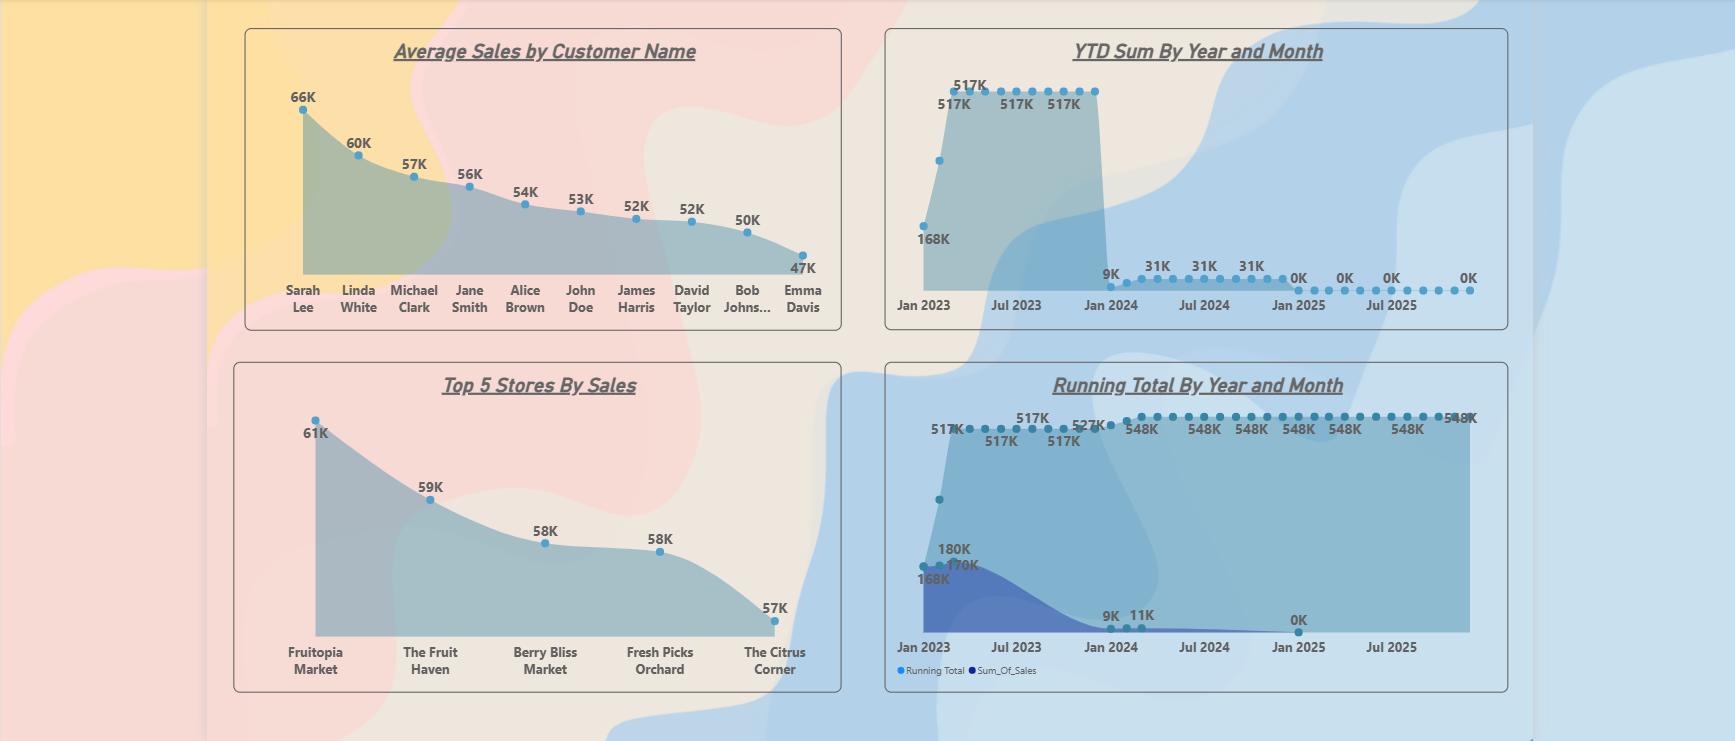

What the dashboard file says about the page in this screenshot:
{"tool":"powerbi","page":{"name":"Sales Analysis","canvas":[1920,1080],"ordinal":2},"visuals":[{"type":"lineChart","title":"Running Total By Year and Month","fields":{"Category":["Sales.Date (MM/DD/YYYY).Variation.Date Hierarchy.Year","Sales.Date (MM/DD/YYYY).Variation.Date Hierarchy.Month"],"Y":["Customer Dim.Running Total","Customer Dim.Sum_Of_Sales"]},"box":[980.8,526.6,903,479.6],"z":0},{"type":"lineChart","title":"YTD Sum By Year and Month","fields":{"Category":["Sales.Date (MM/DD/YYYY).Variation.Date Hierarchy.Year","Sales.Date (MM/DD/YYYY).Variation.Date Hierarchy.Month"],"Y":["Table.TotalYTD"]},"box":[980.8,43.4,903,437.9],"z":1000},{"type":"lineChart","fields":{"Category":["Customer Dim.Customer Name"],"Y":["Table.Average Sales"]},"box":[54.3,43.4,865,438],"z":2000},{"type":"lineChart","title":"Top 5 Stores By Sales","fields":{"Category":["Store Dim.Store Name"],"Y":["Customer Dim.Sum_Of_Sales"]},"box":[38.5,526,880.9,478.9],"z":3000}]}

Visuals, with their boxes on the page's 1920x1080 design canvas (x1, y1, x2, y2). These are canvas units, not pixel positions in the 1735x741 screenshot, which may show the page scaled, cropped or inside an application window:
"Running Total By Year and Month" lineChart: BBox(981, 527, 1884, 1006)
"YTD Sum By Year and Month" lineChart: BBox(981, 43, 1884, 481)
lineChart - Customer Dim.Customer Name x Table.Average Sales: BBox(54, 43, 919, 481)
"Top 5 Stores By Sales" lineChart: BBox(38, 526, 919, 1005)
